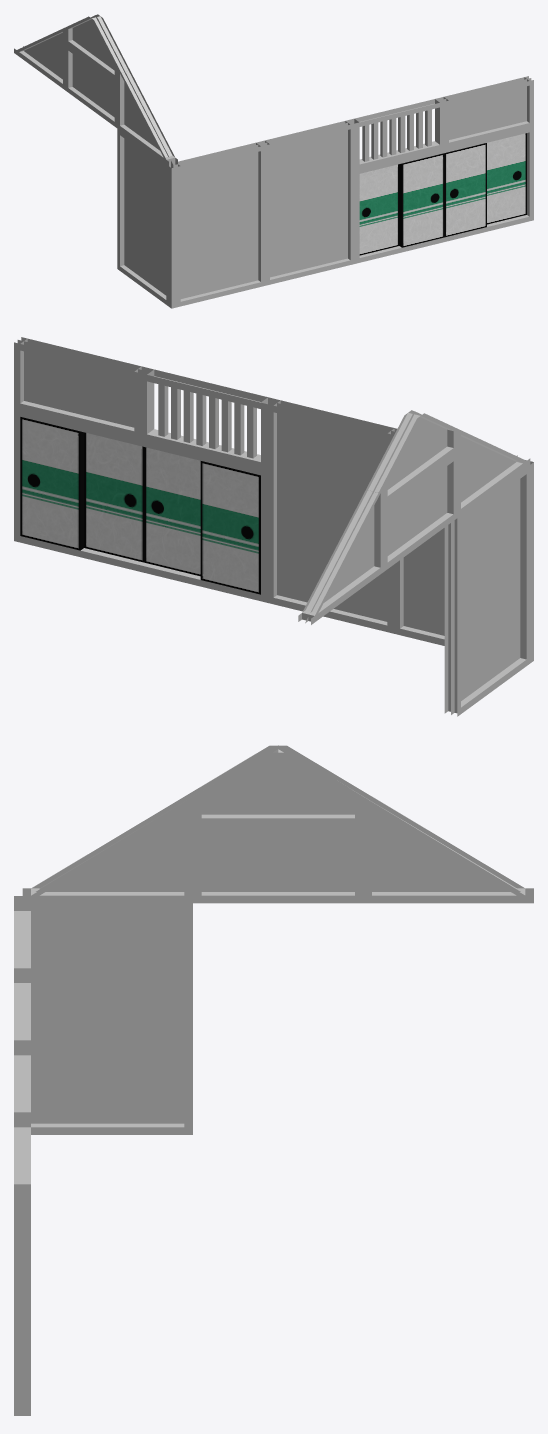
File: Wall.fbx
The picture shows the model from 3 angles, top to bottom: view 1: azimuth 30°, elevation 25°; view 2: azimuth 150°, elevation 25°; view 3: azimuth 270°, elevation 25°; orthographic projection. The views are drawn at different scales.
Parts seen in each view (by area): view 1: WallP, WallC.000, WallC.002, WallC.001, WallO.000, WallN.002, WallN.000, WallO.001, WallN.001, WallF.002, WallF.003, WallF.001 (+2 smaller); view 2: WallP, WallC.000, WallO.000, WallO.001, WallN.002, WallF.004, WallC.001, WallF.001, WallF.003, WallF.002, WallN.000, WallF.000 (+2 smaller); view 3: WallP, WallC.002, WallC.000, WallC.001, WallF.000, WallO.000, WallO.001, WallN.002.
Part boxes in pixels (x1,y1,x2,y2): WallP: (14, 14, 177, 165); WallC.000: (117, 222, 265, 308); WallC.002: (117, 129, 265, 214); WallC.001: (117, 175, 265, 261); WallO.000: (439, 76, 533, 148); WallN.002: (260, 119, 354, 191); WallN.000: (265, 216, 354, 285); WallO.001: (350, 98, 444, 170); WallN.001: (265, 169, 354, 238); WallF.002: (399, 153, 444, 247); WallF.003: (444, 143, 486, 237); WallF.001: (359, 164, 399, 255); WallP: (298, 410, 530, 624); WallC.000: (393, 566, 533, 716); WallO.000: (14, 337, 147, 439); WallO.001: (140, 368, 274, 470); WallN.002: (267, 399, 396, 490); WallF.004: (20, 417, 83, 550); WallC.001: (393, 528, 533, 650); WallF.001: (200, 461, 260, 594); WallF.003: (84, 432, 144, 562); WallF.002: (144, 447, 200, 576); WallN.000: (267, 535, 393, 633); WallF.000: (14, 408, 267, 602); WallP: (22, 745, 533, 903); WallC.002: (14, 896, 192, 980); WallC.000: (31, 1054, 192, 1134); WallC.001: (31, 977, 192, 1057); WallF.000: (14, 1261, 30, 1415); WallO.000: (14, 1119, 30, 1261); WallO.001: (14, 1047, 30, 1119); WallN.002: (14, 975, 30, 1047).
Bounding box in the file's own units: 16.2 × 10 × 12.2.
